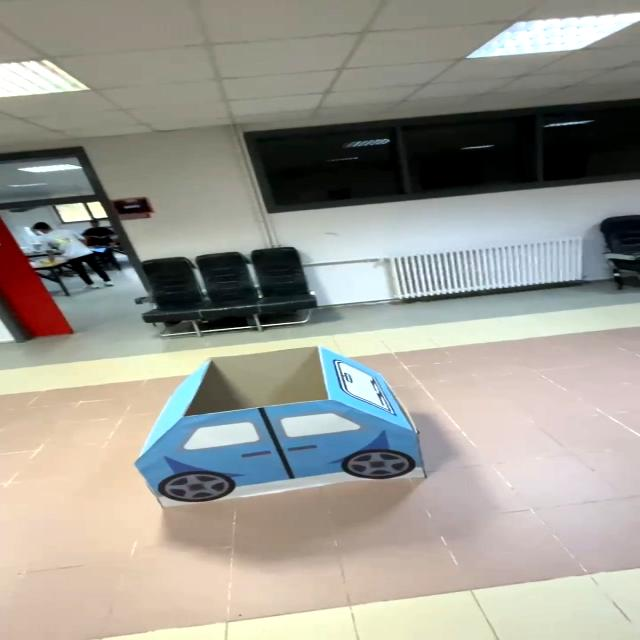blue_car: (120, 337, 479, 518)
